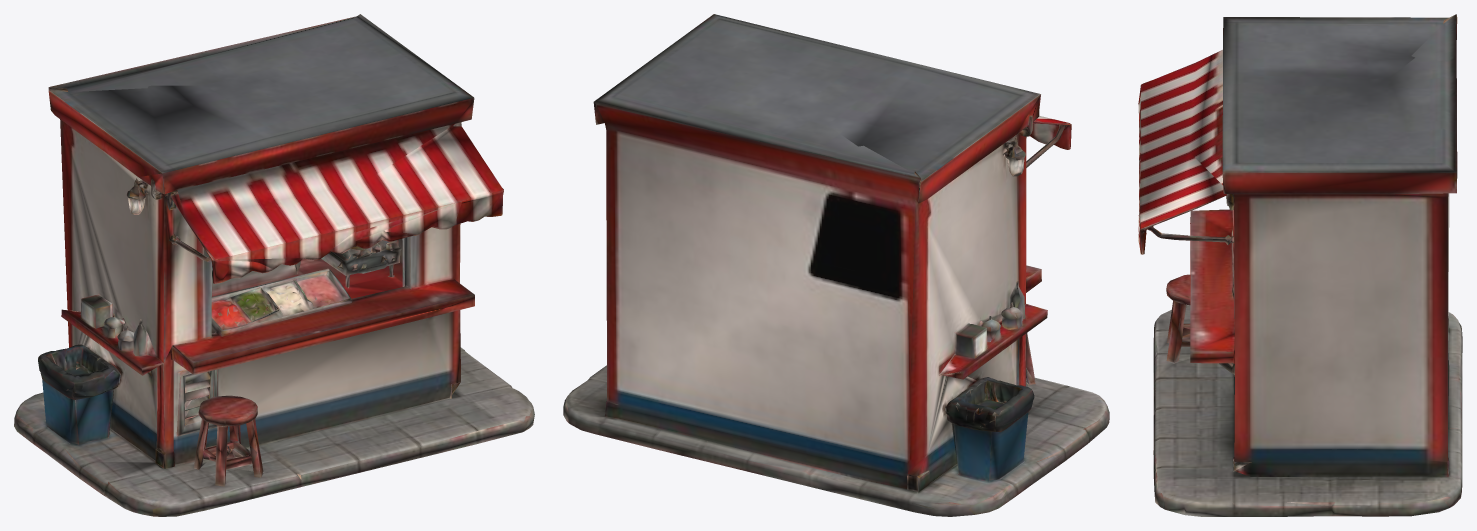
File: city_izmir_kumru_stall.glb
3 views of the same model, side by side, from view 1: azimuth 30°, elevation 25°; view 2: azimuth 150°, elevation 25°; view 3: azimuth 270°, elevation 25° (orthographic). The views are drawn at different scales.
Parts seen in each view (by area): view 1: Mesh1.0; view 2: Mesh1.0; view 3: Mesh1.0.
Boxes of the visible parts, x1,y1,x2,y2 form: Mesh1.0: [14, 14, 534, 516]; Mesh1.0: [563, 14, 1109, 516]; Mesh1.0: [1138, 14, 1462, 516].
Size of the model in its own units: 3.52 by 2.6 by 2.35.
Materials: 1 (1 with a texture image).
